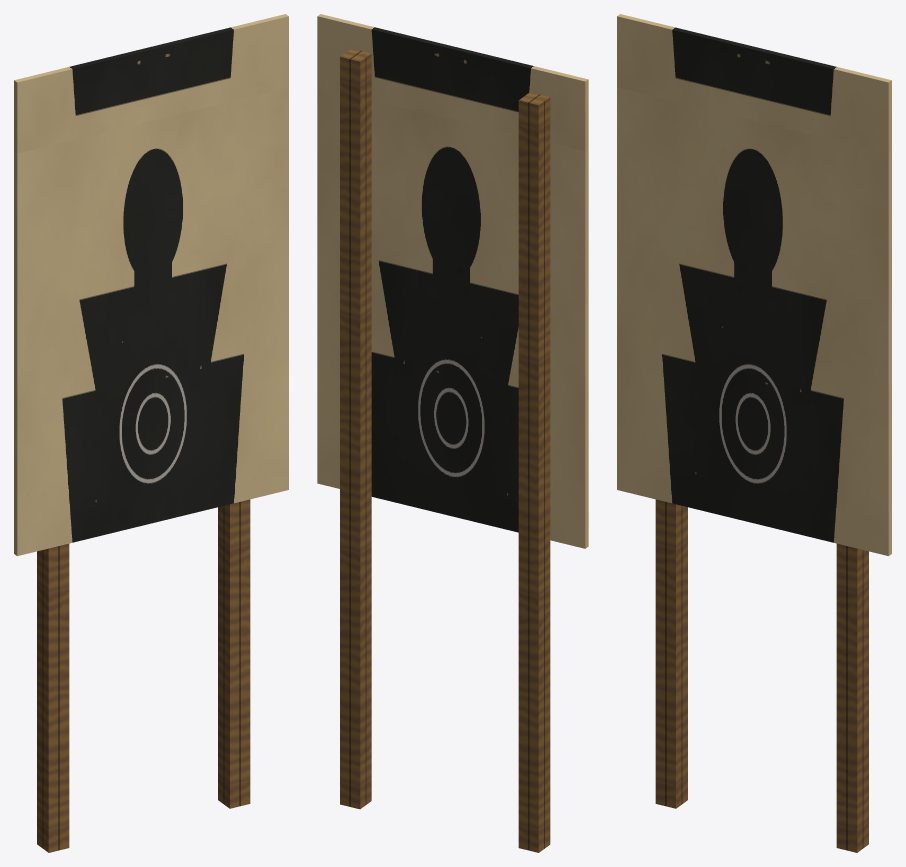
File: target_silhouette.glb
3 views of the same model, side by side, from view 1: azimuth 30°, elevation 25°; view 2: azimuth 150°, elevation 25°; view 3: azimuth 330°, elevation 25° (orthographic).
Visible parts, largest first — view 1: Target; view 2: Target; view 3: Target.
Boxes of the visible parts, left/top/right/bottom form: Target: left=14, top=14, right=288, bottom=852; Target: left=317, top=14, right=588, bottom=852; Target: left=617, top=14, right=891, bottom=852.
Size of the model in its own units: 0.6 by 1.65 by 0.0585.
Materials: 2 (2 with a texture image).
